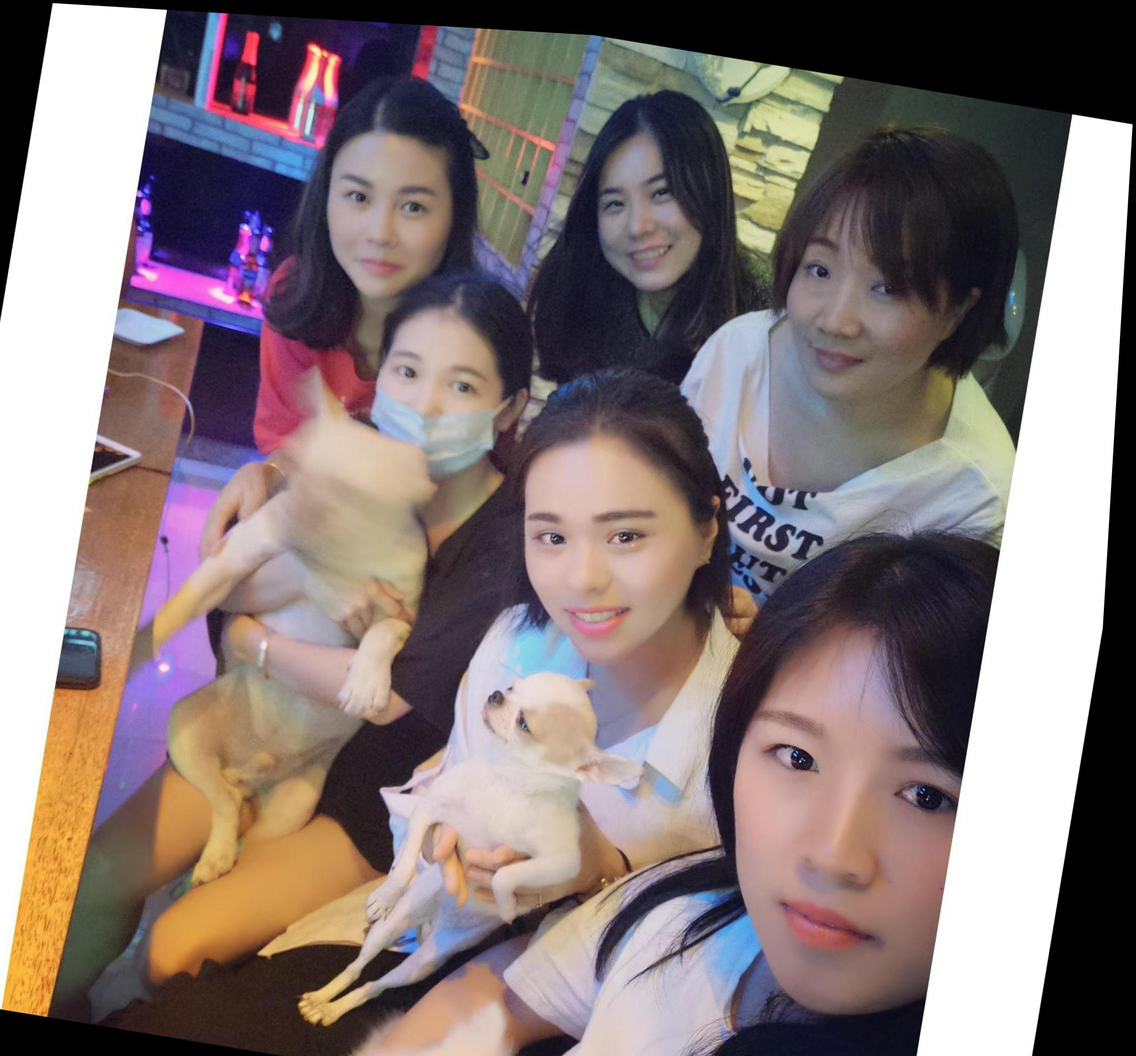NONE: (709, 678, 983, 1015), (515, 458, 708, 662), (777, 219, 948, 397), (317, 149, 462, 299), (587, 148, 711, 288)
WRONG: (363, 333, 515, 485)
